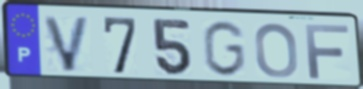5: (150, 16, 194, 78)
7: (101, 14, 138, 75)
F: (303, 23, 352, 81)
G: (200, 19, 247, 79)
O: (253, 21, 300, 80)
V: (41, 14, 93, 74)
